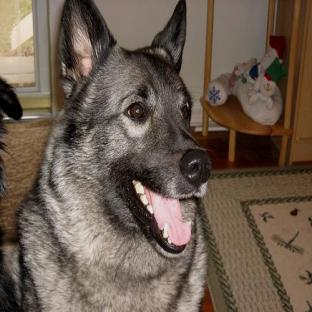Animal: (1, 0, 211, 311)
